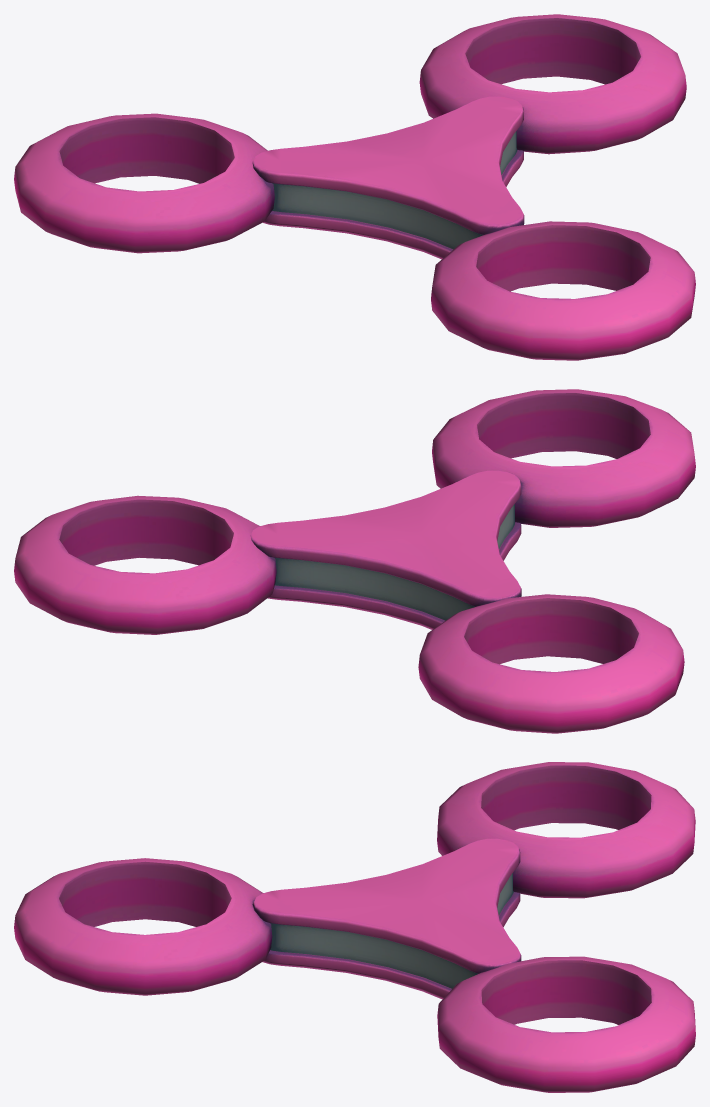
File: ENV_S04_Spinner.fbx
3 renders of one model, top to bottom at view 1: azimuth 30°, elevation 25°; view 2: azimuth 150°, elevation 25°; view 3: azimuth 270°, elevation 25°, orthographic.
Parts seen in each view (by area): view 1: ENV_S04_Spinner_0; view 2: ENV_S04_Spinner_0; view 3: ENV_S04_Spinner_0.
Boxes of the visible parts, x1,y1,x2,y2 form: ENV_S04_Spinner_0: [14, 14, 695, 360]; ENV_S04_Spinner_0: [14, 389, 695, 733]; ENV_S04_Spinner_0: [14, 762, 695, 1092].
Bounding box in the file's own units: 45.15 × 3.98 × 42.81.
